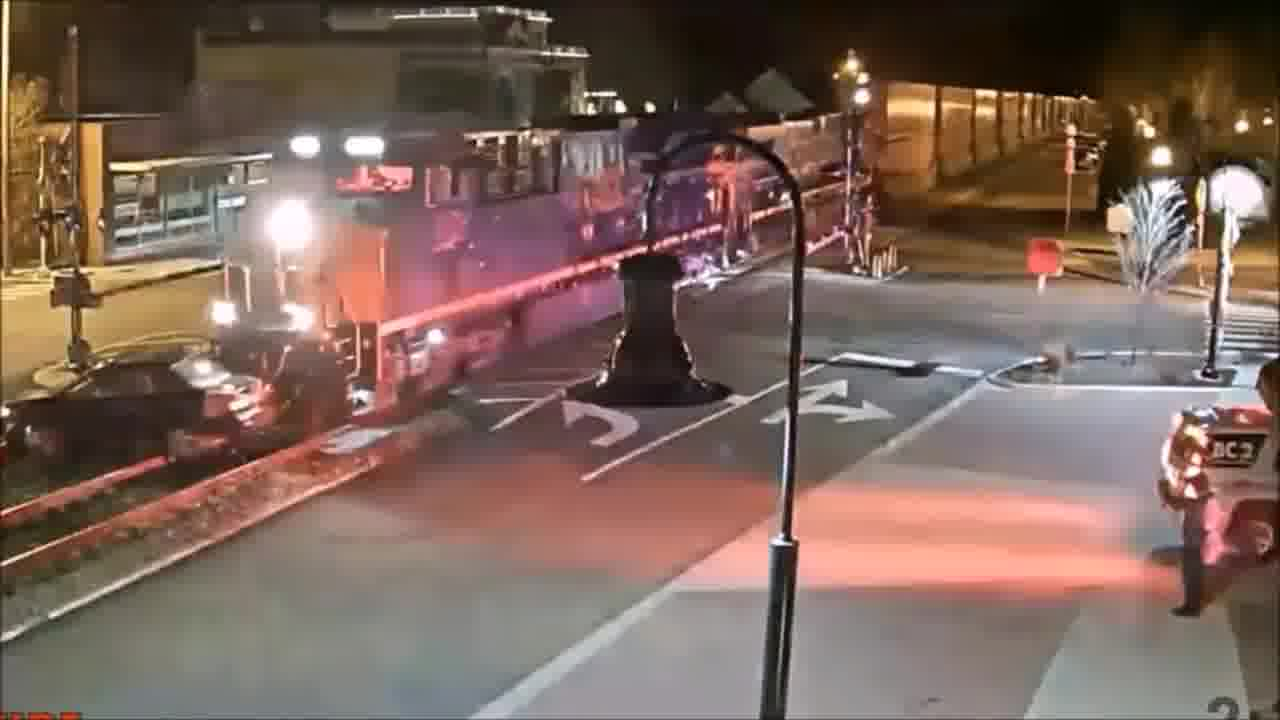crossing railway track: (11, 305, 269, 473)
